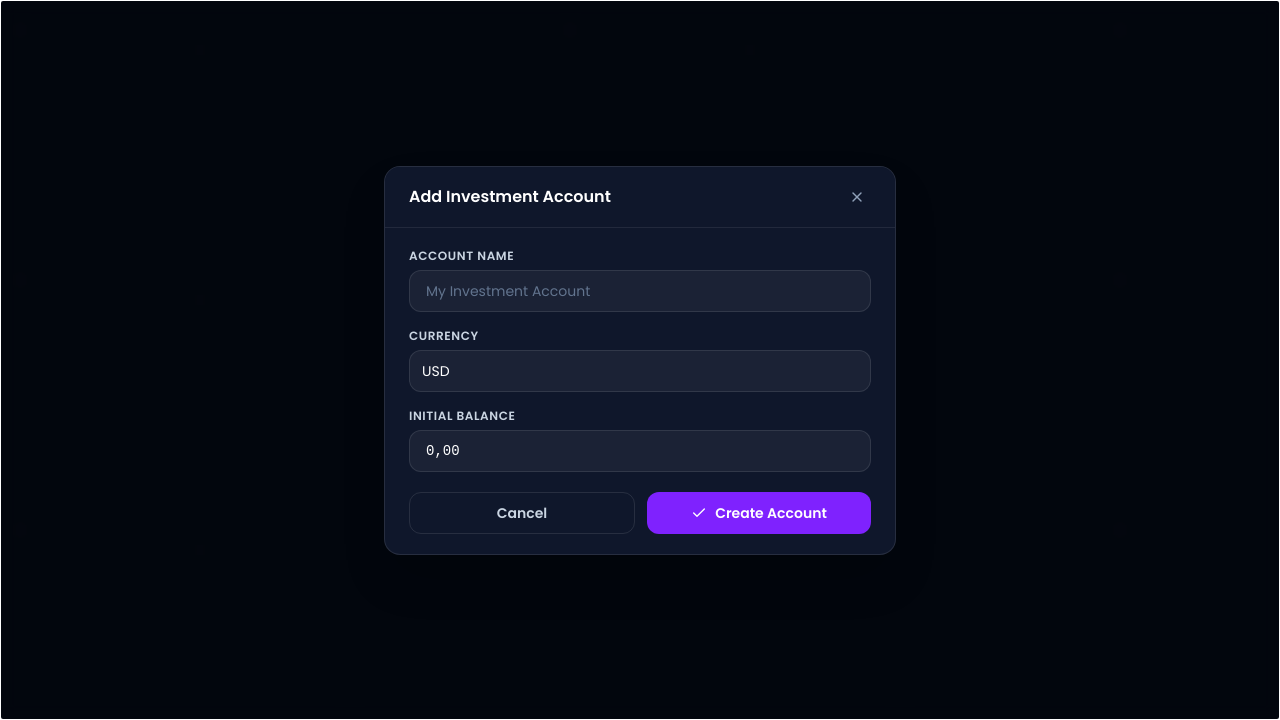
Test case: CreateInvestmentModal › should show validation error when submitting with empty name
The image size is (1280, 720).
What coordinates should you click on to do the following:
click the button "Create Account"
I would click on:
 (759, 512)
Its box is [647,492,871,534].
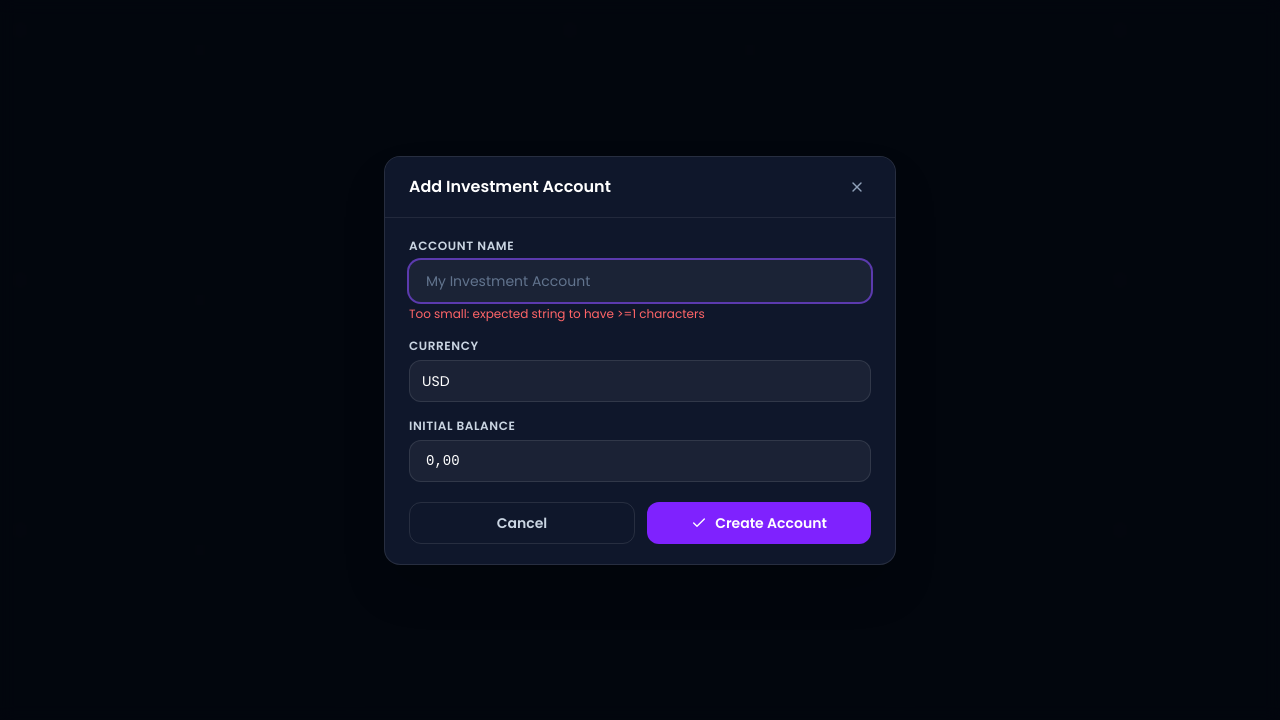
Check: the message "Too small: expected string to have >=1 characters" is shown, box [409,304,705,322]
